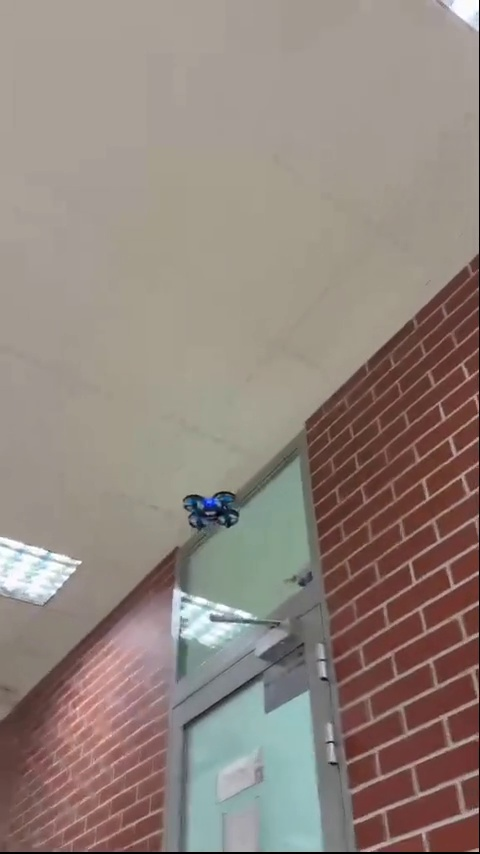drone: (185, 490, 243, 533)
